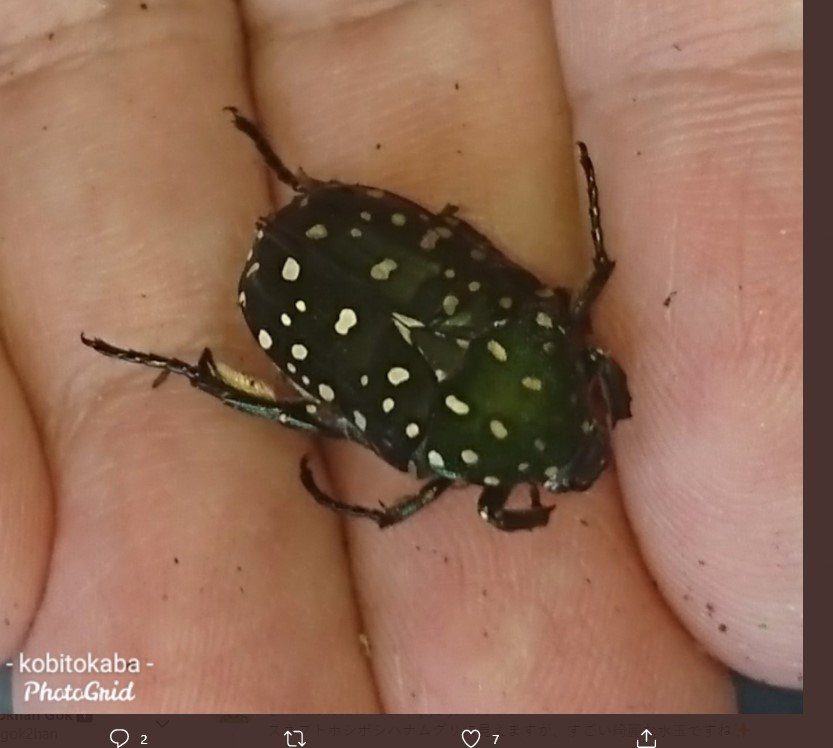Protaetia_niveoguttata: (69, 93, 648, 536)
